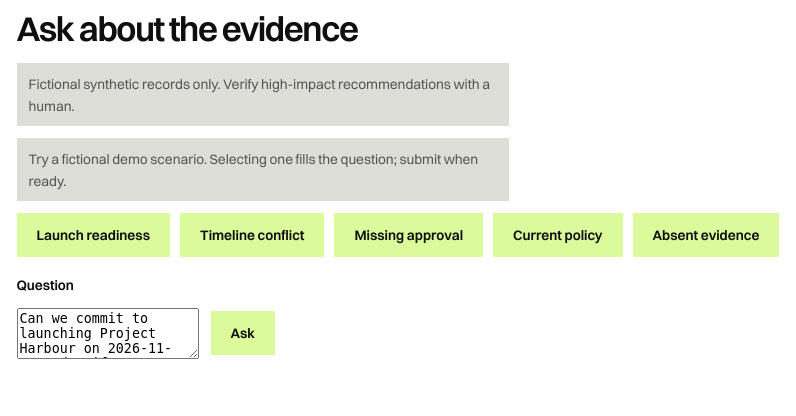
Test: Ask evidence interaction › explains the minimum trimmed question length without fetching
Replace the text in the text box labelled "Question" with " a  " at x=108, y=333, box [16, 308, 198, 359]
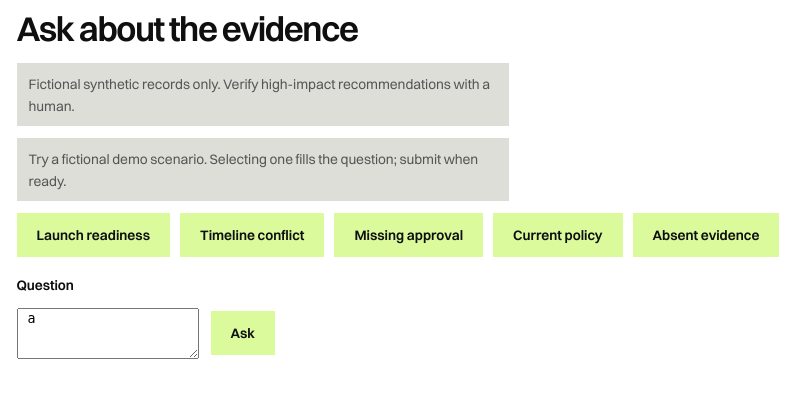
Click the button "Ask" at x=243, y=333, box [210, 311, 275, 355]
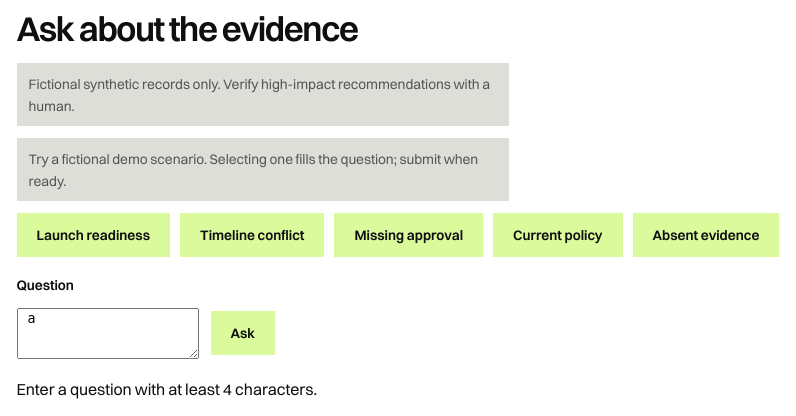
Check: the message reads "Enter a question with at least 4 characters.", box [16, 379, 317, 399]
